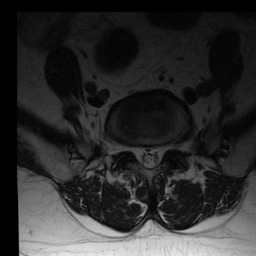CCS_normal: (142, 137, 154, 173)
LFS_stenosis: (164, 135, 171, 160)
LLS_normal: (154, 140, 163, 171)
RFS_stenosis: (124, 136, 134, 163)
RLS_normal: (133, 139, 142, 167)
